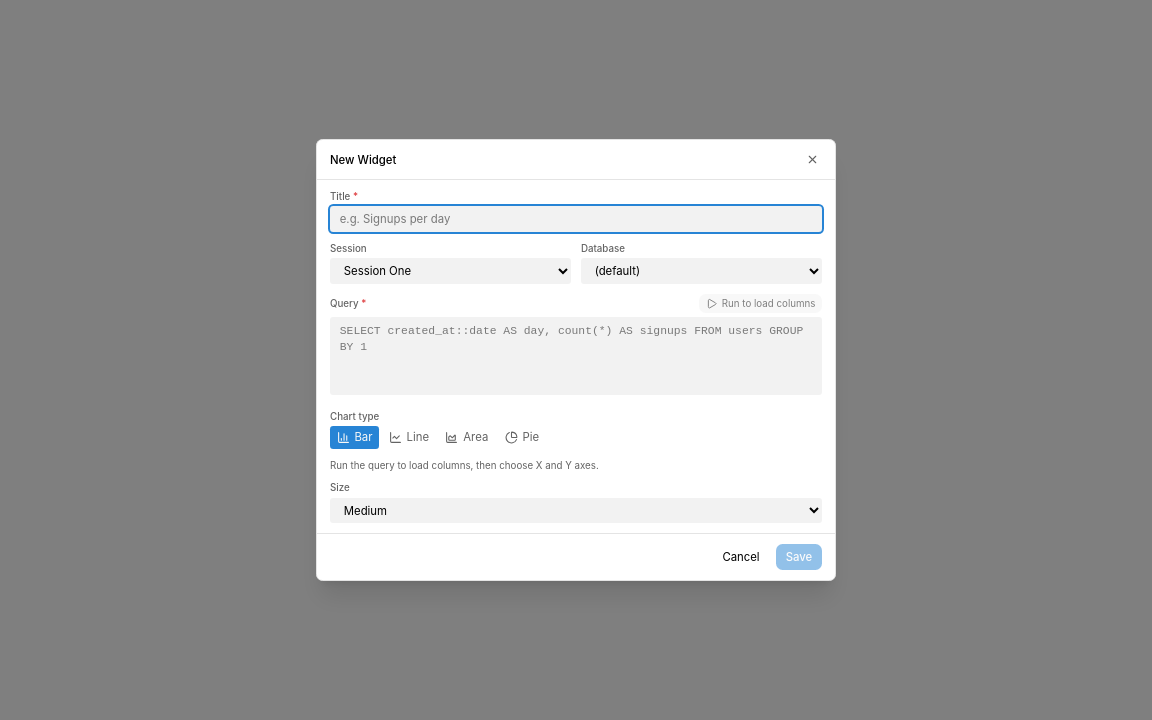
Test: WidgetEditor › runs the query via executeQuery and reveals the X/Y column pickers
Check: the text "Run the query to load columns, then choose X and Y axes." is shown, box [330,460,599,471]
Type "SELECT 1" into the text box with placeholder "SELECT created_at" at coordinates (576, 356), box [330,317,822,395]
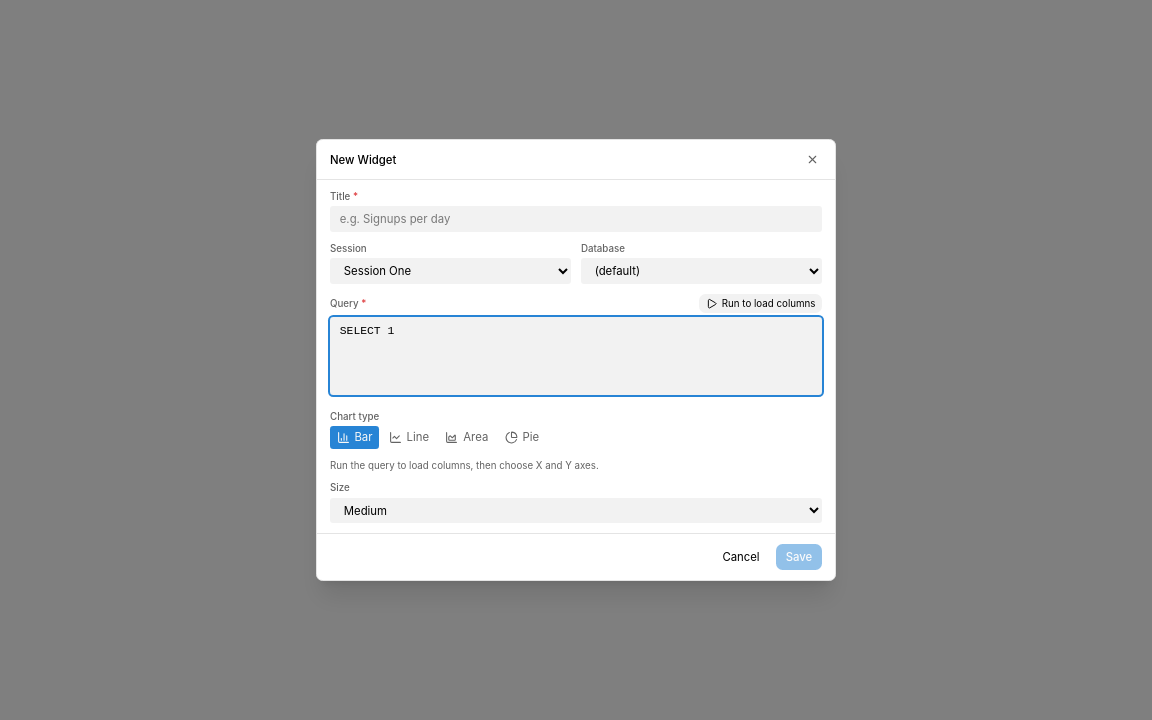
Click the button "Run to load columns" at coordinates (760, 304), box [699,294,822,313]
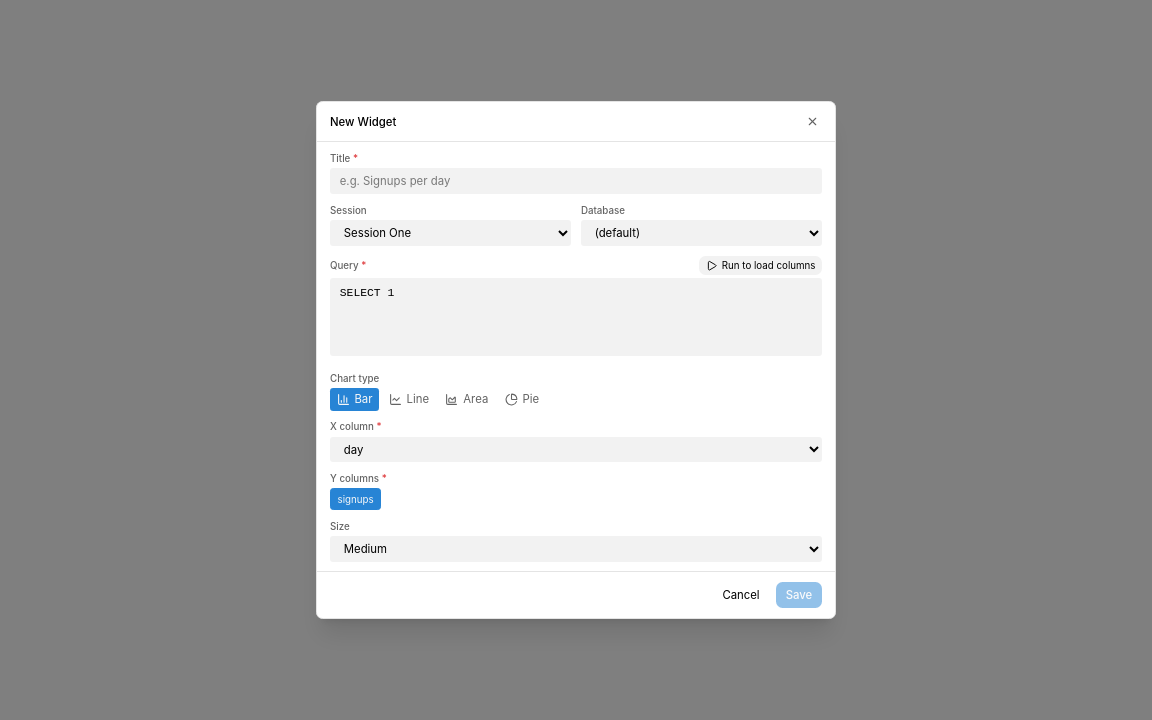
Check: the text "X column" is shown, box [330,421,374,432]
Check: the button "signups" is shown, box [330,488,381,510]
